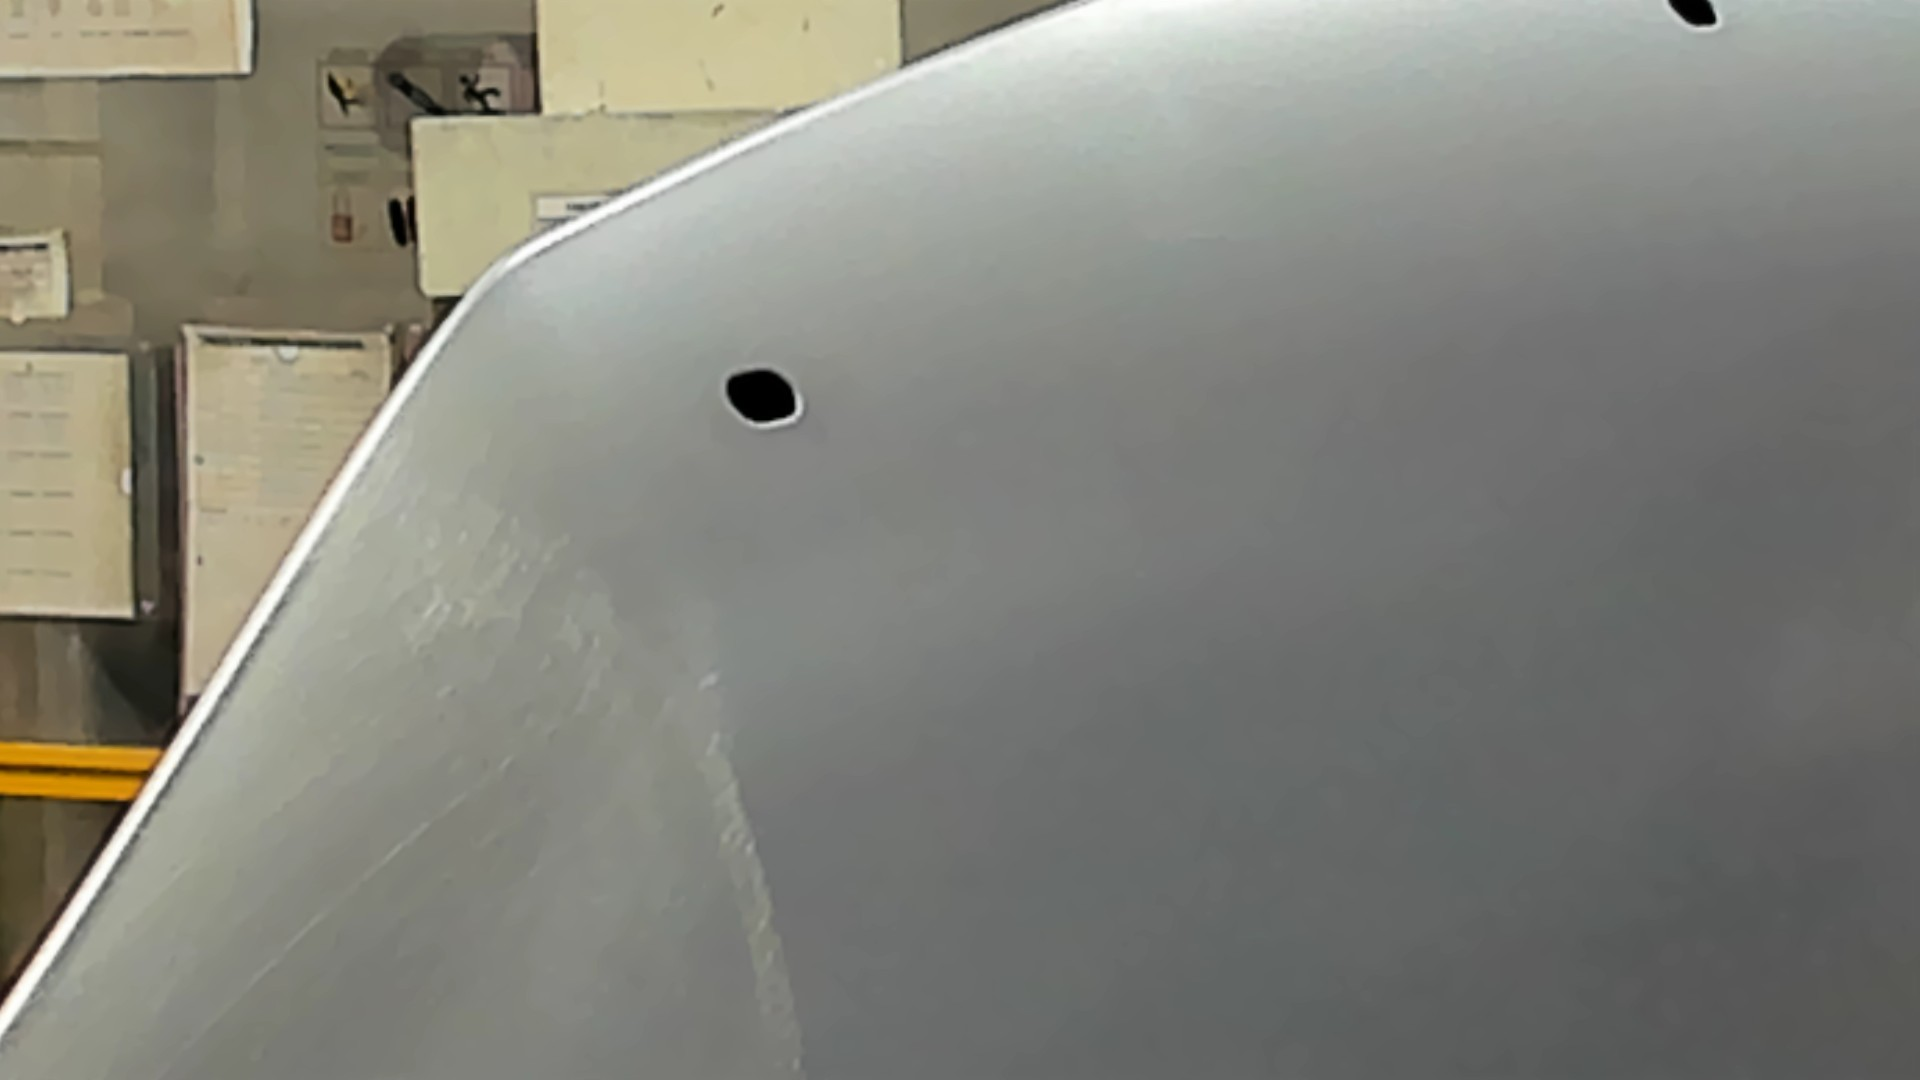amorfo: (715, 360, 819, 436), (1654, 1, 1731, 37)
